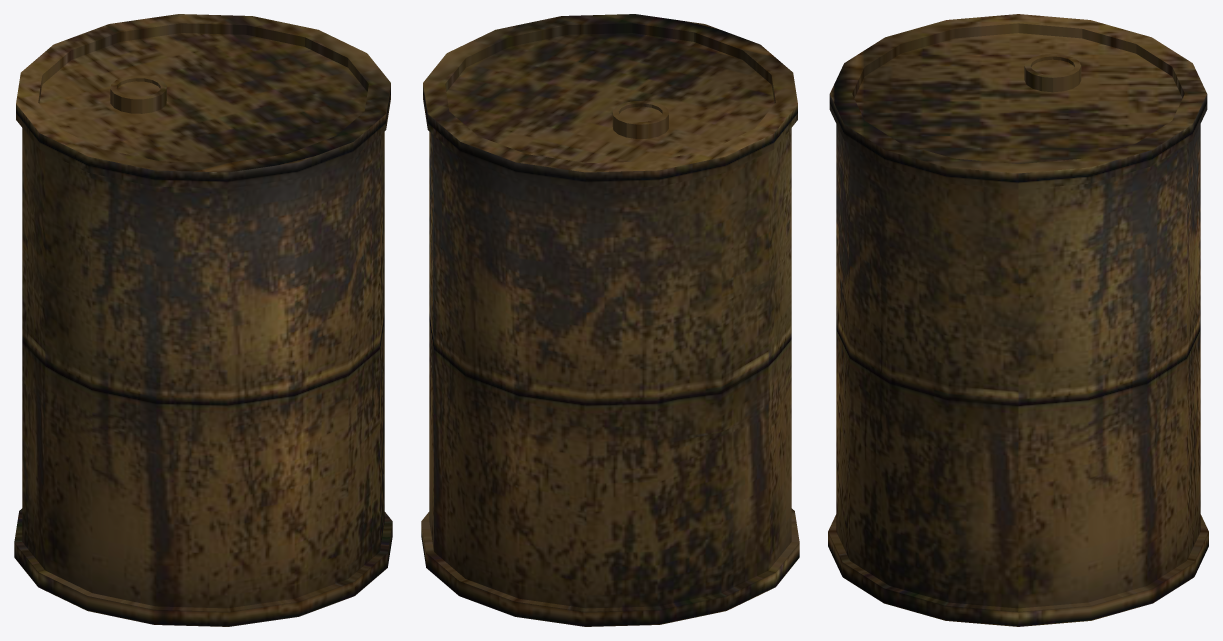
The model's file is barile.fbx.
3 views of the same model, side by side, from view 1: azimuth 30°, elevation 25°; view 2: azimuth 150°, elevation 25°; view 3: azimuth 270°, elevation 25° (orthographic).
Visible parts, largest first — view 1: pCylinder1; view 2: pCylinder1; view 3: pCylinder1.
Part boxes in pixels (box(x1,y1,x2,y2)): pCylinder1: box(14, 14, 392, 626); pCylinder1: box(421, 14, 799, 626); pCylinder1: box(828, 14, 1208, 626).
Size of the model in its own units: 2.35 by 3.11 by 2.35.
